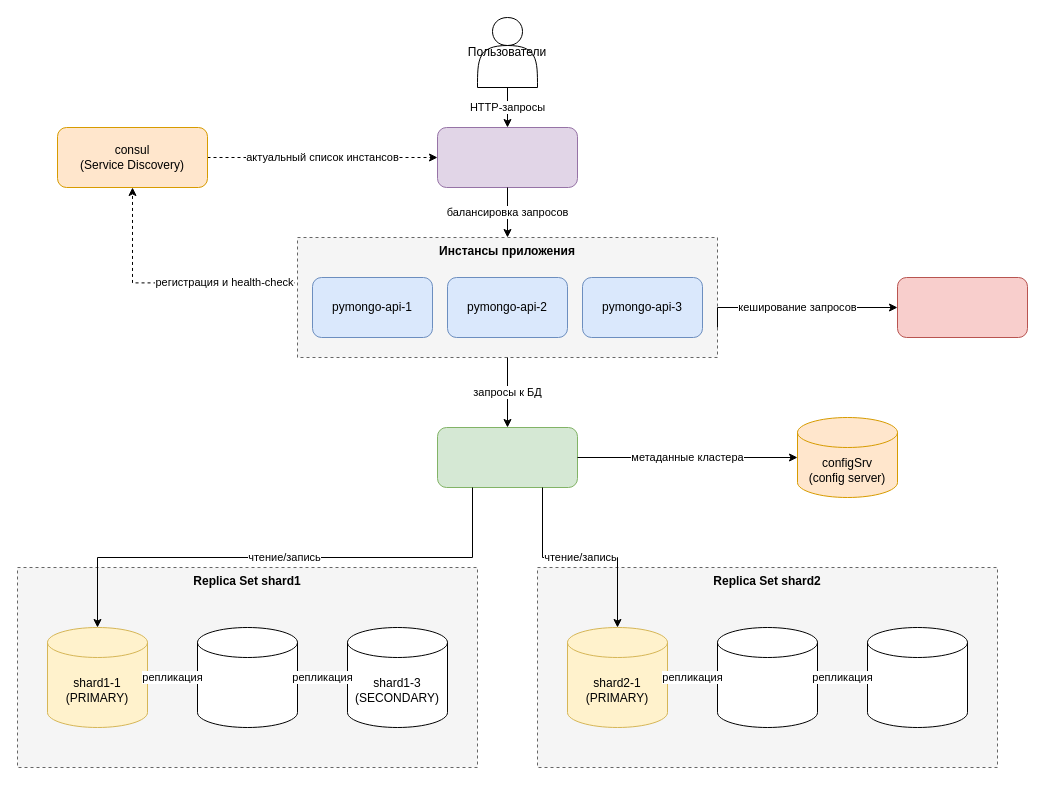
The diagram is 1045 pixels wide and 785 high, and some of its shapes have lost their labels. The centre of each missing label's shape, as x and y in pixels:
"api-gateway (балансировка)" belongs at [507,157].
"mongos_router (MongoDB router)" belongs at [507,457].
"redis (кеш)" belongs at [962,307].
"shard1-2 (SECONDARY)" belongs at [247,677].
"shard2-2 (SECONDARY)" belongs at [767,677].
"shard2-3 (SECONDARY)" belongs at [917,677].
